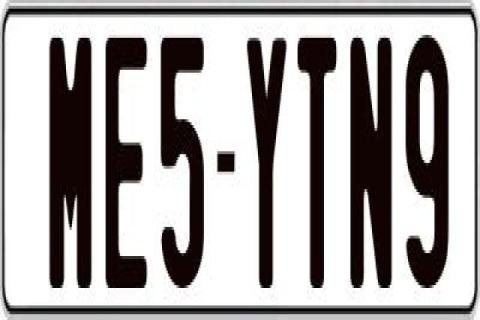0: (404, 29, 450, 285), (160, 38, 204, 300)
E: (104, 35, 150, 285)
M: (48, 32, 92, 296)
N: (348, 29, 388, 285)
T: (294, 35, 334, 288)
Y: (245, 35, 291, 303)
